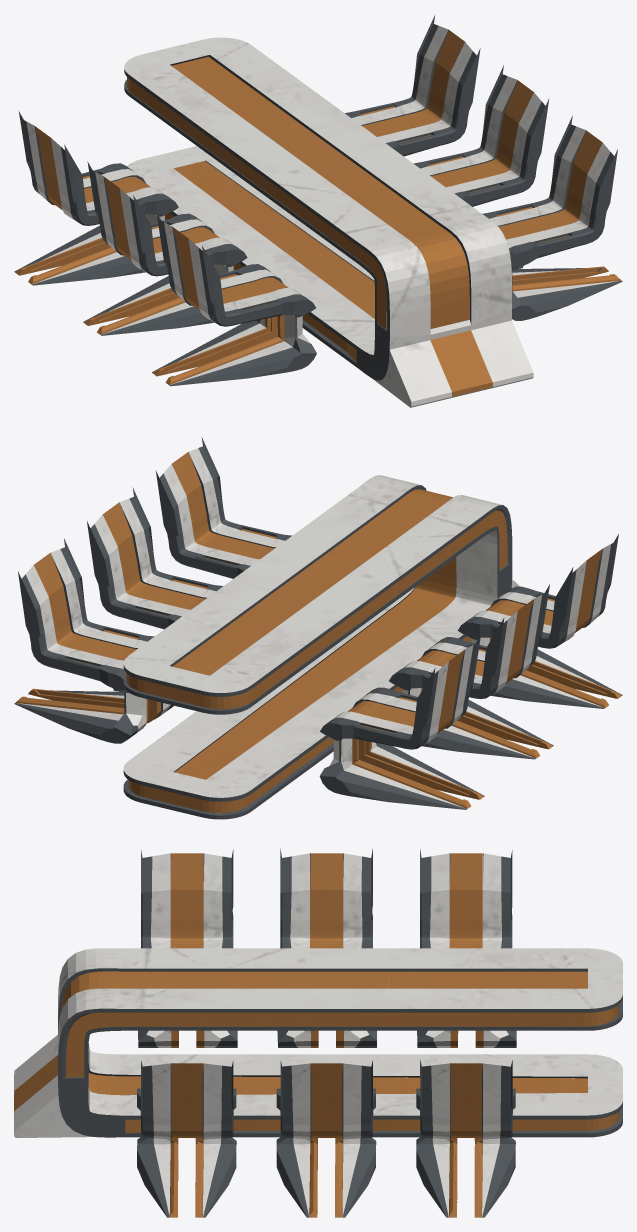
The model's file is table-chairs.glb.
3 views of the same model, one above another, from view 1: azimuth 30°, elevation 25°; view 2: azimuth 150°, elevation 25°; view 3: azimuth 270°, elevation 25° (orthographic).
Parts seen in each view (by area): view 1: Object_6, Object_5, Object_4; view 2: Object_6, Object_5, Object_4; view 3: Object_6, Object_5, Object_4.
Part boxes in pixels (x1,y1,x2,y2): Object_6: (26, 26, 620, 407); Object_5: (15, 30, 621, 396); Object_4: (14, 15, 622, 386); Object_6: (19, 448, 611, 819); Object_5: (15, 452, 621, 813); Object_4: (14, 437, 622, 819); Object_6: (14, 853, 622, 1217); Object_5: (14, 853, 619, 1217); Object_4: (58, 848, 622, 1217).
Bounding box in the file's own units: 1.52 × 0.495 × 1.75.
3 materials, 3 textured.
